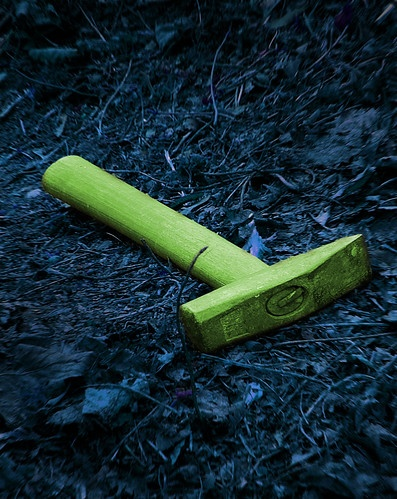hammer: (38, 153, 375, 352)
